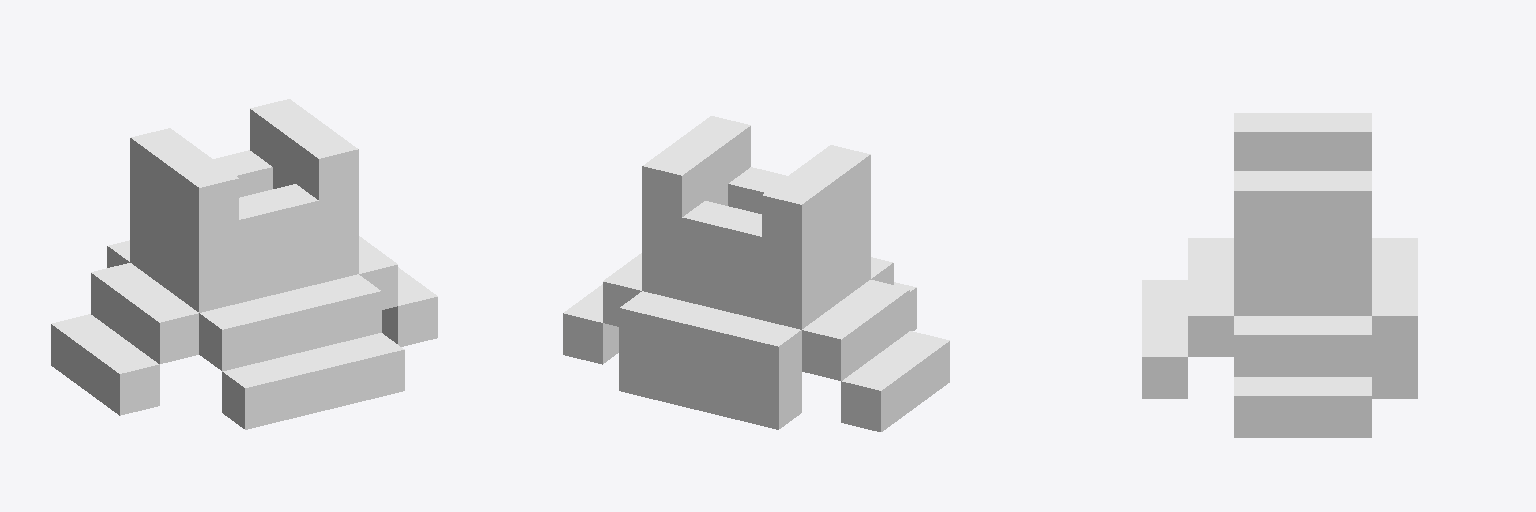
Rendered from cubeland1-4.obj.
3 renders of one model, left to right at view 1: azimuth 30°, elevation 25°; view 2: azimuth 150°, elevation 25°; view 3: azimuth 270°, elevation 25°, orthographic.
Parts seen in each view (by area): view 1: object 1; view 2: object 1; view 3: object 1.
Part boxes in pixels (x1,y1,x2,y2): object 1: (51,99,437,429); object 1: (563,116,949,431); object 1: (1142,113,1417,437).
Bounding box in the file's own units: 0.8 × 0.5 × 0.6.